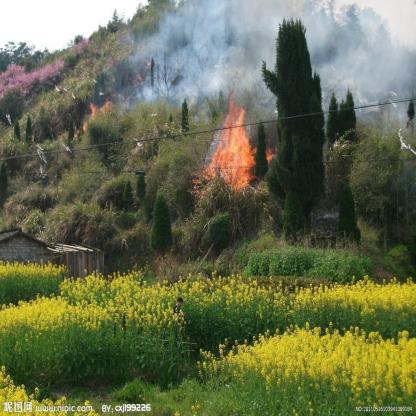fire: (197, 97, 274, 189), (66, 102, 114, 128)
smoke: (341, 43, 388, 87), (182, 9, 233, 48), (198, 61, 222, 82)
